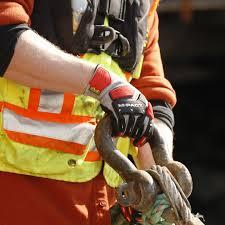Gloves: (88, 61, 152, 137)
Jacket: (1, 0, 155, 185)
